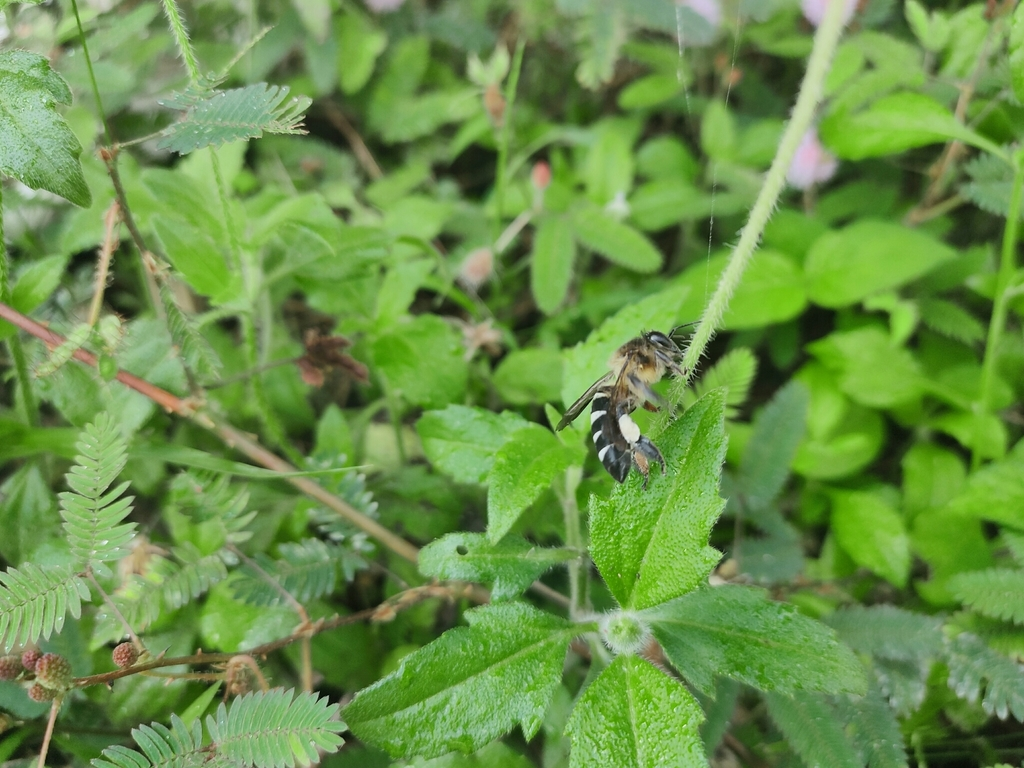honeybee: (554, 320, 706, 493)
